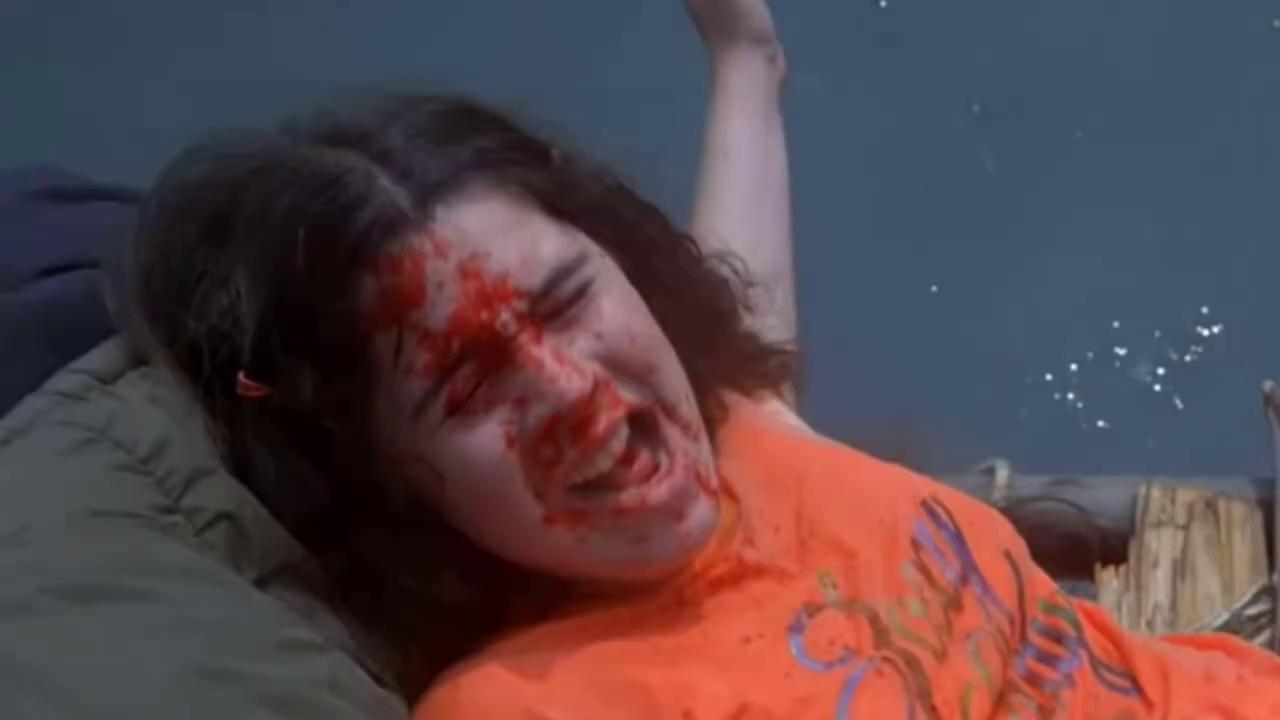Fire: (360, 185, 721, 586)
